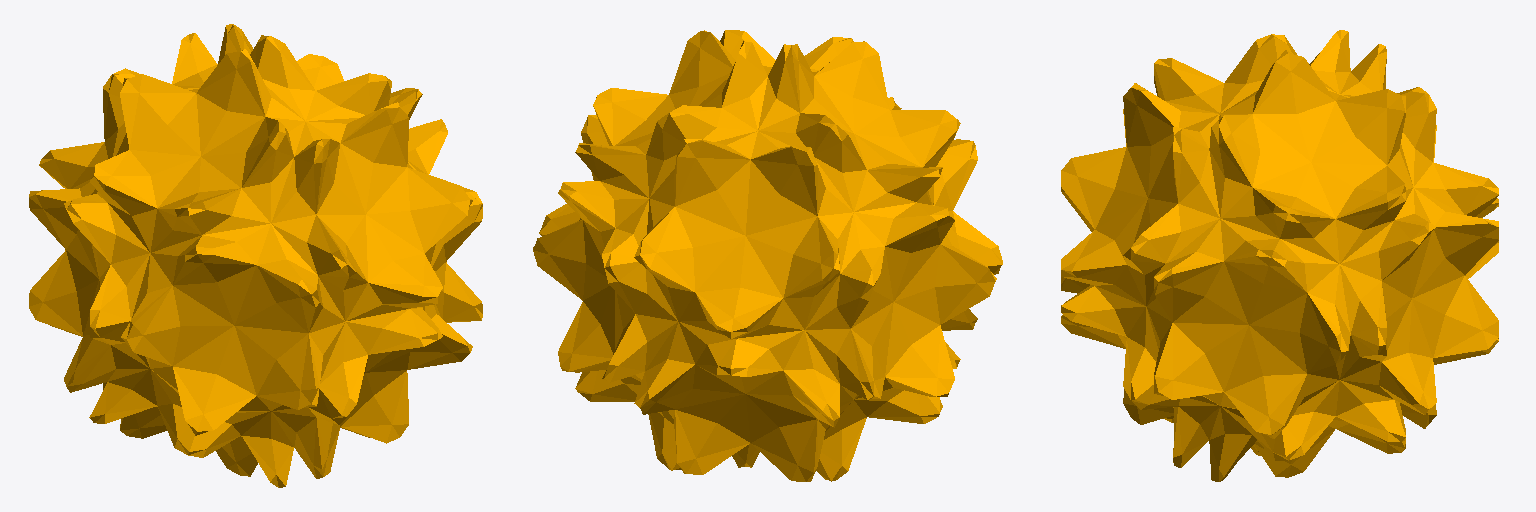
File: testvc.obj
3 views of the same model, side by side, from view 1: azimuth 30°, elevation 25°; view 2: azimuth 150°, elevation 25°; view 3: azimuth 270°, elevation 25° (orthographic).
Parts seen in each view (by area): view 1: 0; view 2: 0; view 3: 0.
Boxes of the visible parts, x1=… form: 0: x1=29, y1=24, x2=482, y2=487; 0: x1=533, y1=30, x2=1002, y2=481; 0: x1=1061, y1=30, x2=1498, y2=481.
Size of the model in its own units: 610 by 630 by 588.